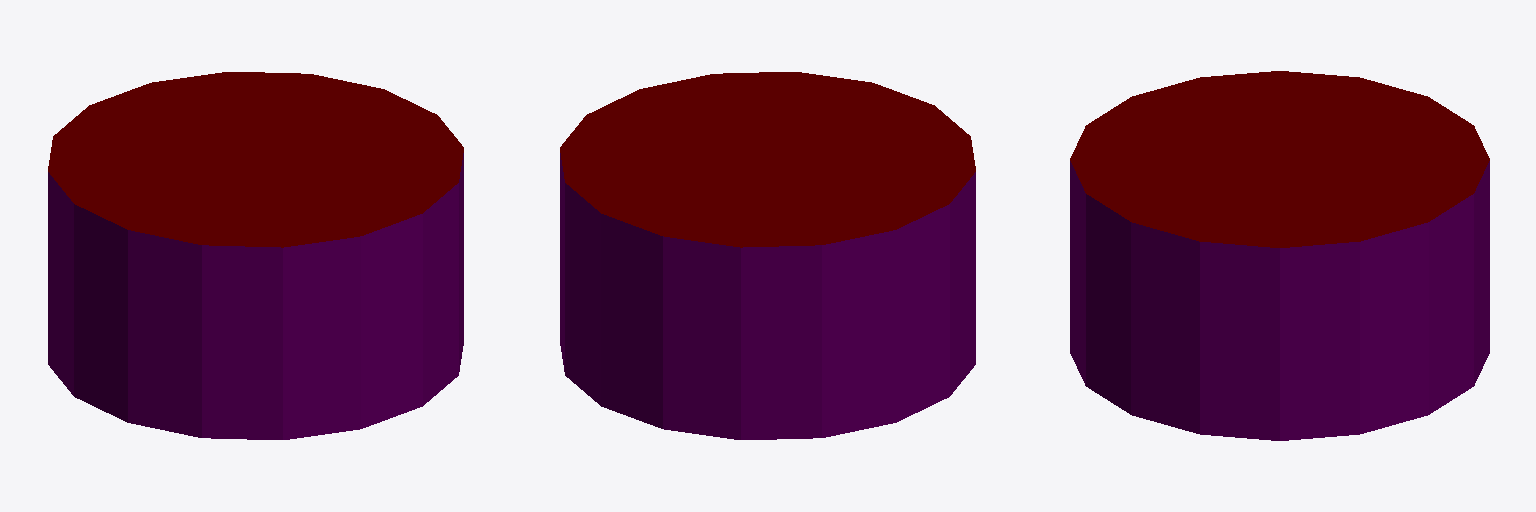
File: ngon_sample.obj
The picture shows the model from 3 angles: view 1: azimuth 30°, elevation 25°; view 2: azimuth 150°, elevation 25°; view 3: azimuth 270°, elevation 25°; orthographic projection.
Parts seen in each view (by area): view 1: side_grp, caps_grp; view 2: side_grp, caps_grp; view 3: side_grp, caps_grp.
Boxes of the visible parts, x1,y1,x2,y2 form: side_grp: [48, 153, 463, 439]; caps_grp: [48, 72, 463, 247]; side_grp: [560, 153, 975, 439]; caps_grp: [560, 72, 975, 247]; side_grp: [1070, 161, 1489, 440]; caps_grp: [1070, 71, 1489, 247].
Size of the model in its own units: 100 by 50.67 by 100.